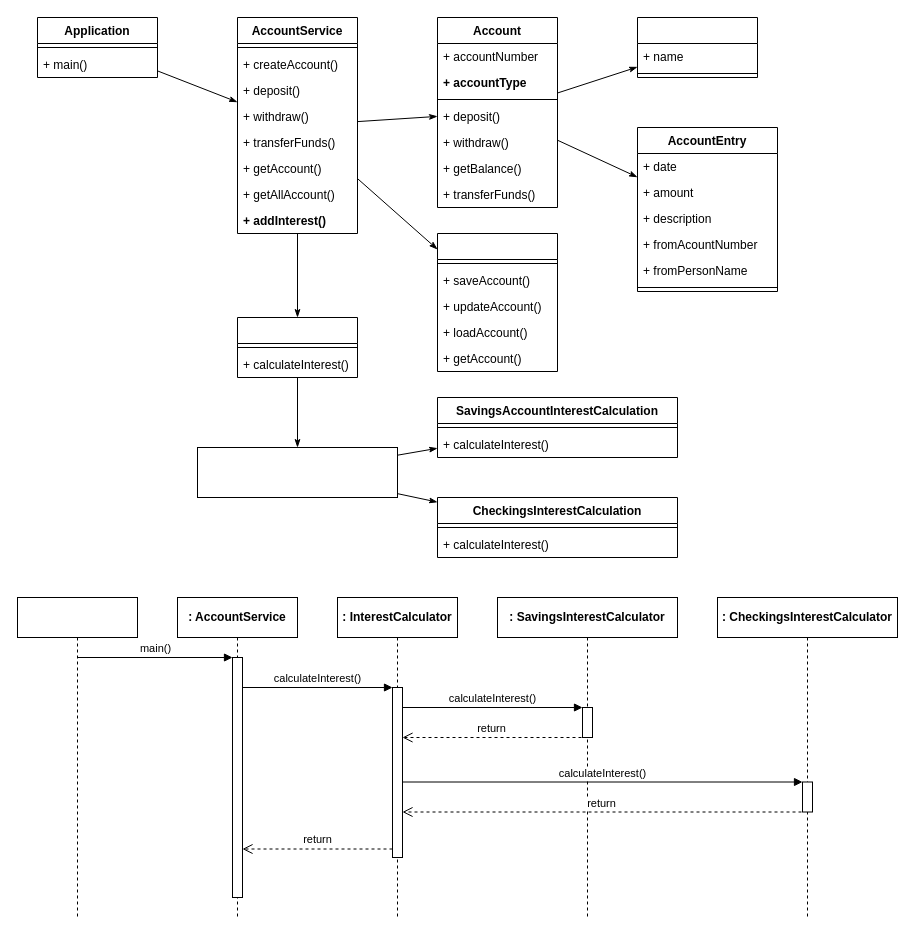
The diagram is 915 pixels wide and 935 high, and some of its shapes have lost their labels. The box of each missing label's shape, as (x1, y1, x2, y2) in pixels:
: Application: (16, 596, 138, 918)
AccountDAO: (436, 232, 558, 372)
Customer: (636, 16, 758, 78)
InterestCalculator: (236, 316, 358, 378)
«interface» InterestCalculationStrategy: (196, 446, 398, 498)
